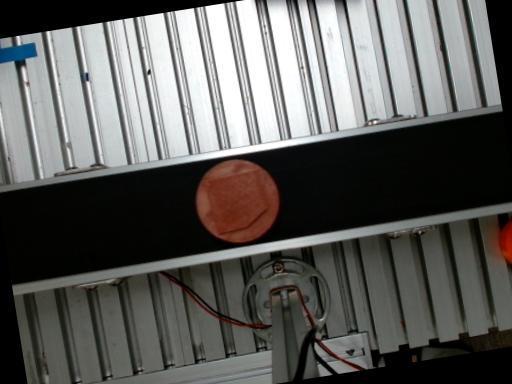Brown_Waper: (195, 159, 278, 242)
Not_Square: (202, 168, 269, 235)
